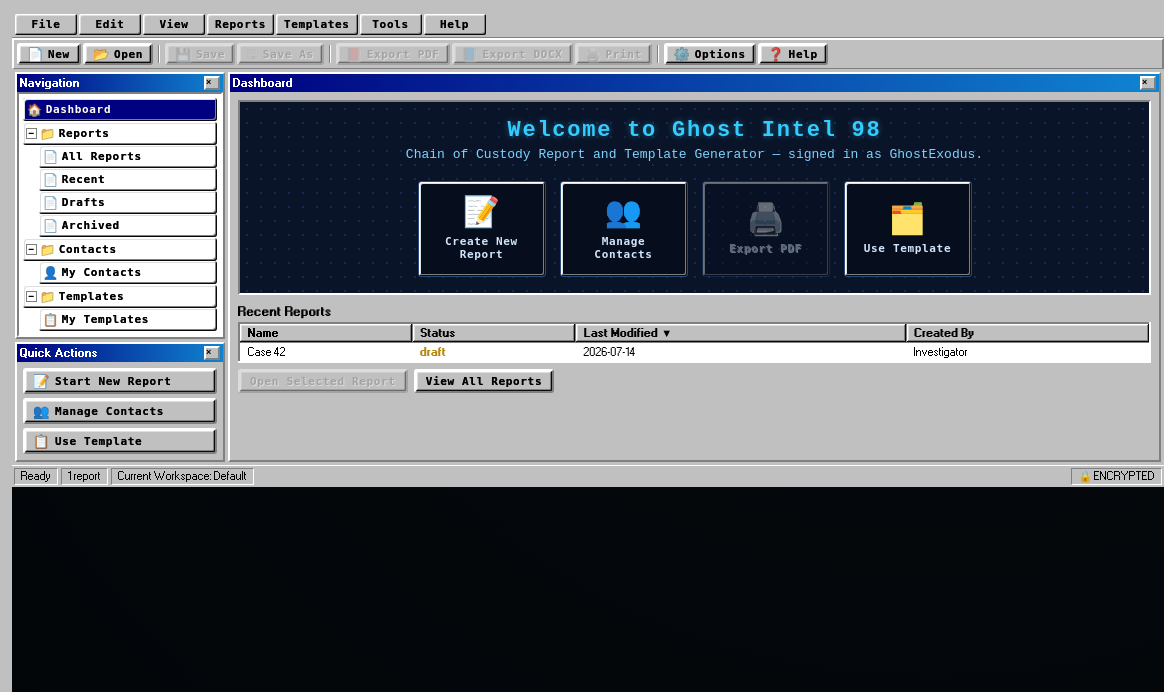
Test case: ReportsModule shell (Task 6) › flushes the editor's pending edit to the store when swapping back to the Dashboard
The image size is (1164, 692).
Step 1. Click the button "📝 Create New Report" → [482, 229], box x1=418 y1=181 x2=546 y2=277
(page scrolled)
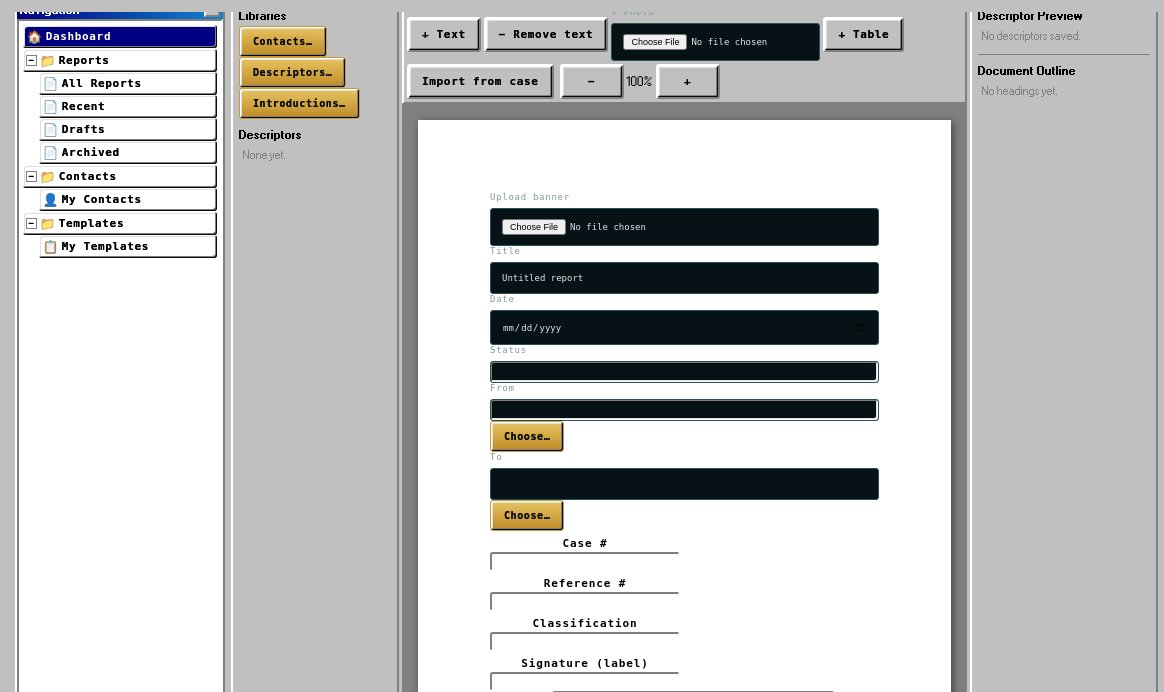
Step 2. Select "Completed" in the dropdown named "Report status" → [684, 372], box x1=490 y1=361 x2=879 y2=383
Step 3. Click the button "🏠 Dashboard" → [120, 36], box x1=23 y1=25 x2=217 y2=48
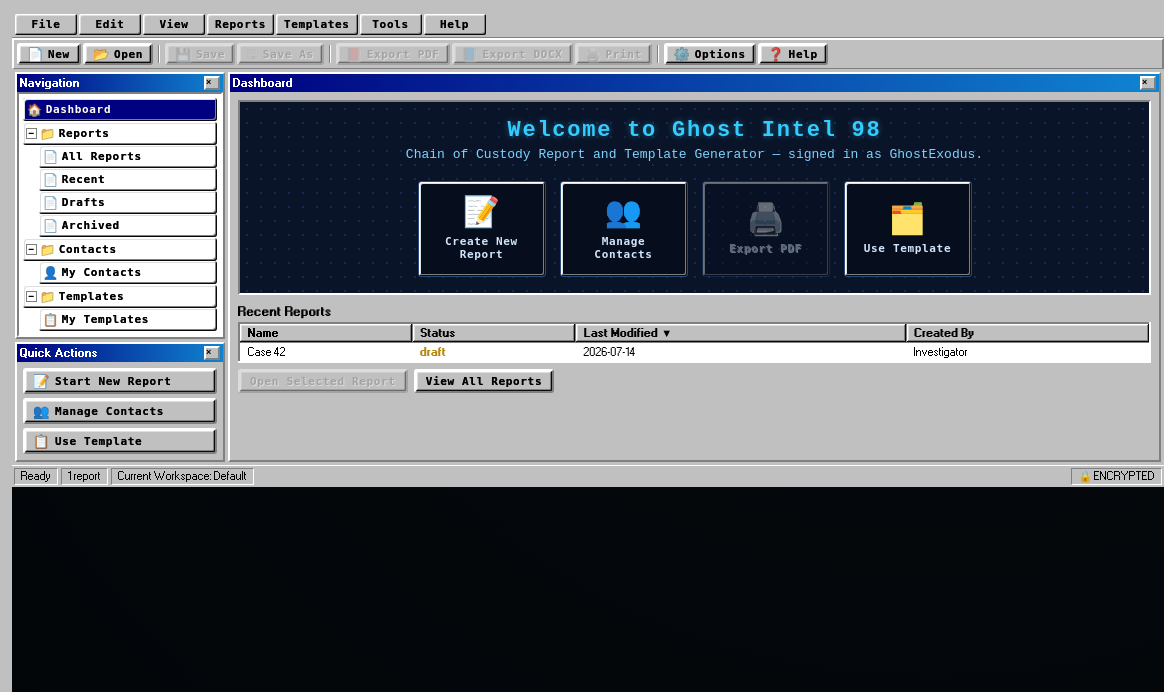
Now the element with class "ga98-report-dashboard" is shown, box x1=228 y1=72 x2=1161 y2=462
